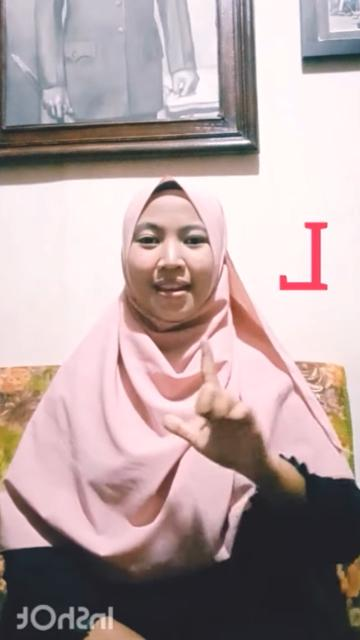L: (162, 337, 268, 481)
